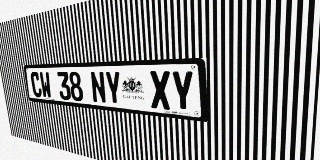3: (57, 72, 71, 100)
8: (68, 71, 84, 102)
C: (30, 72, 42, 98)
N: (90, 71, 107, 104)
W: (39, 72, 52, 99)
X: (149, 71, 171, 110)
Y: (171, 70, 195, 112), (104, 71, 123, 105)
